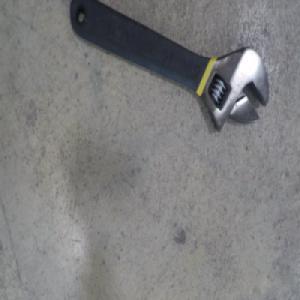AdjustableWrench: (71, 0, 272, 131)
